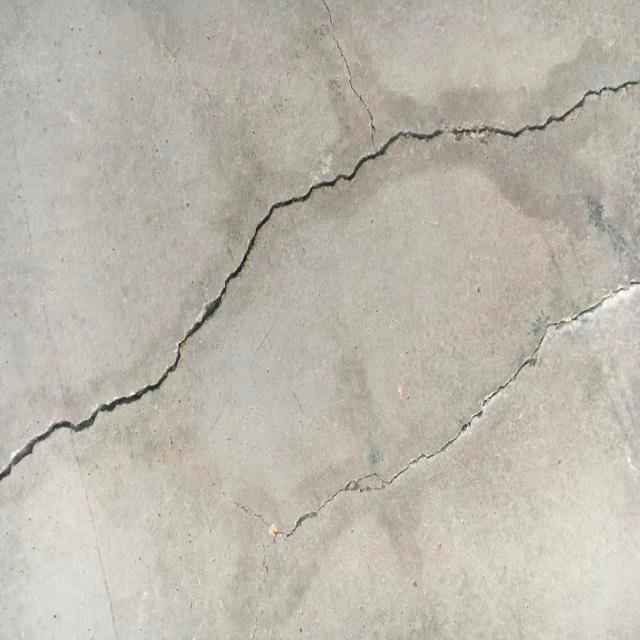SurfaceCrack: (0, 0, 639, 523)
